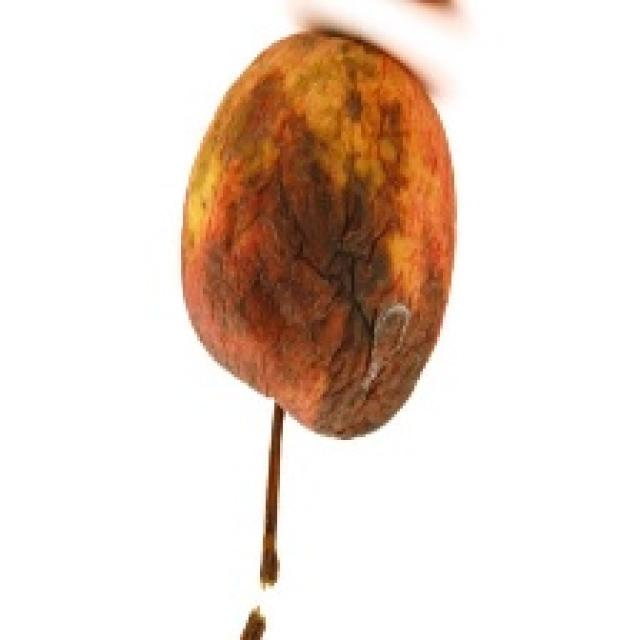rotten_apple: (181, 35, 452, 437)
